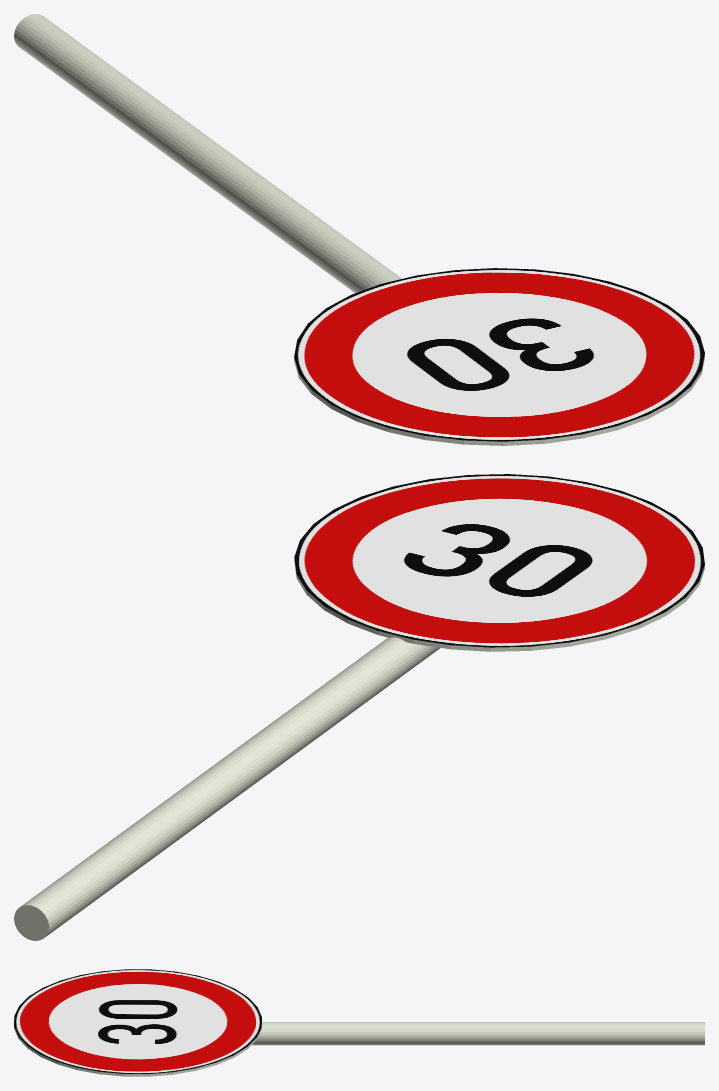
3 renders of one model, top to bottom at view 1: azimuth 30°, elevation 25°; view 2: azimuth 150°, elevation 25°; view 3: azimuth 270°, elevation 25°, orthographic. The views are drawn at different scales.
Visible parts, largest first — view 1: Circle.011, 30_tube; view 2: Circle.011, 30_tube; view 3: Circle.011, 30_tube.
Part boxes in pixels (x1,y1,x2,y2): Circle.011: [294, 268, 704, 445]; 30_tube: [14, 14, 401, 293]; Circle.011: [294, 474, 704, 651]; 30_tube: [14, 637, 439, 940]; Circle.011: [14, 969, 261, 1076]; 30_tube: [252, 1022, 704, 1045].
Bounding box in the file's own units: 0.0516 × 0.00514 × 0.1437.
Materials: 3 (1 with a texture image).
